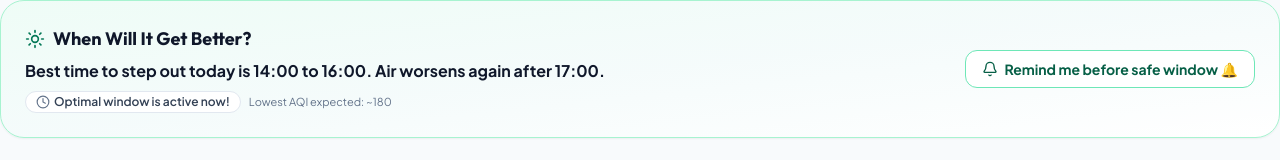
Test: LanguagePicker, WhenWillItGetBetter, and TodayPlanTab › WhenWillItGetBetter handles Notification granted, unsupported, error, and stayIndoorsAllDay
Click the button "Remind me before safe window 🔔" at (1110, 69), box [965,50,1255,88]
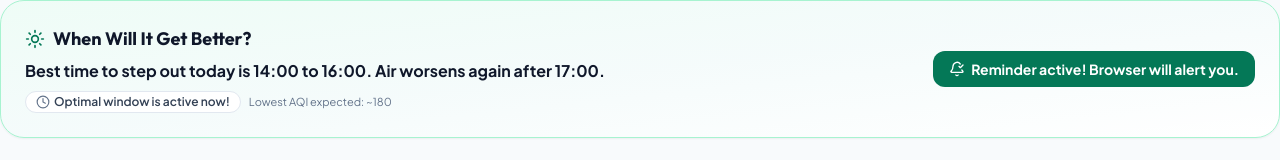
Result: the button "Reminder active! Browser will alert you." is shown at [933,51,1255,87]
